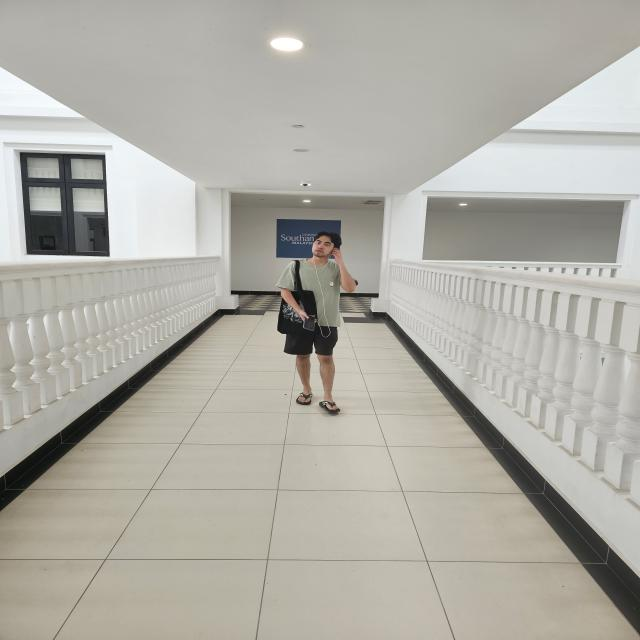footpath: (49, 402, 524, 639)
obstacle: (530, 269, 640, 598), (379, 253, 526, 400), (84, 245, 230, 387), (0, 257, 74, 479)
person: (275, 231, 357, 413)
